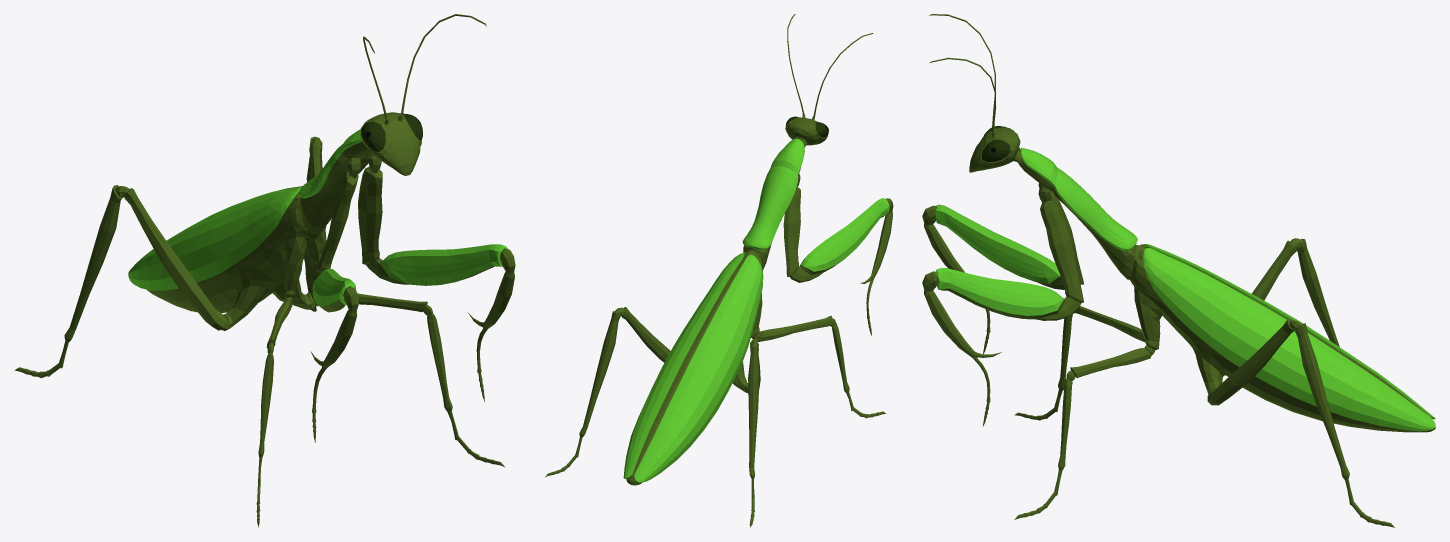
The model's file is mantis_mantis_triangulated.obj.
The picture shows the model from 3 angles, left to right: view 1: azimuth 30°, elevation 25°; view 2: azimuth 150°, elevation 25°; view 3: azimuth 270°, elevation 25°; orthographic projection. The views are drawn at different scales.
Size of the model in its own units: 0.0545 by 0.0875 by 0.0944.
